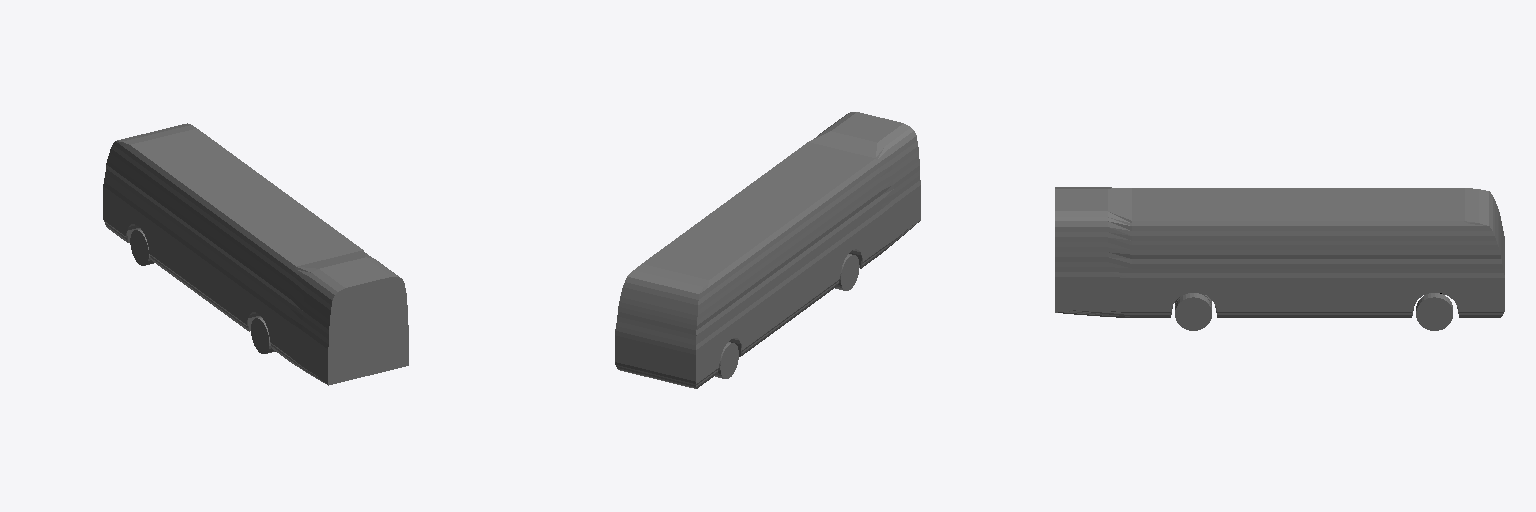
Rendered from Elbuss340.obj.
3 renders of one model, left to right at view 1: azimuth 30°, elevation 25°; view 2: azimuth 150°, elevation 25°; view 3: azimuth 270°, elevation 25°, orthographic.
Parts seen in each view (by area): view 1: Mesh.001_Cube.001, Mesh.007_Cylinder.002, Mesh.008_Cylinder.003; view 2: Mesh.001_Cube.001, Mesh.008_Cylinder.003, Mesh.007_Cylinder.002; view 3: Mesh.001_Cube.001, Mesh_Cylinder, Mesh.006_Cylinder.001.
Boxes of the visible parts, x1,y1,x2,y2 form: Mesh.001_Cube.001: [103, 123, 408, 385]; Mesh.007_Cylinder.002: [251, 317, 274, 353]; Mesh.008_Cylinder.003: [130, 229, 153, 265]; Mesh.001_Cube.001: [615, 112, 920, 388]; Mesh.008_Cylinder.003: [715, 342, 738, 378]; Mesh.007_Cylinder.002: [835, 254, 859, 290]; Mesh.001_Cube.001: [1055, 187, 1504, 317]; Mesh_Cylinder: [1416, 293, 1452, 330]; Mesh.006_Cylinder.001: [1175, 293, 1211, 330].
Bounding box in the file's own units: 1.62 × 2.15 × 7.82.